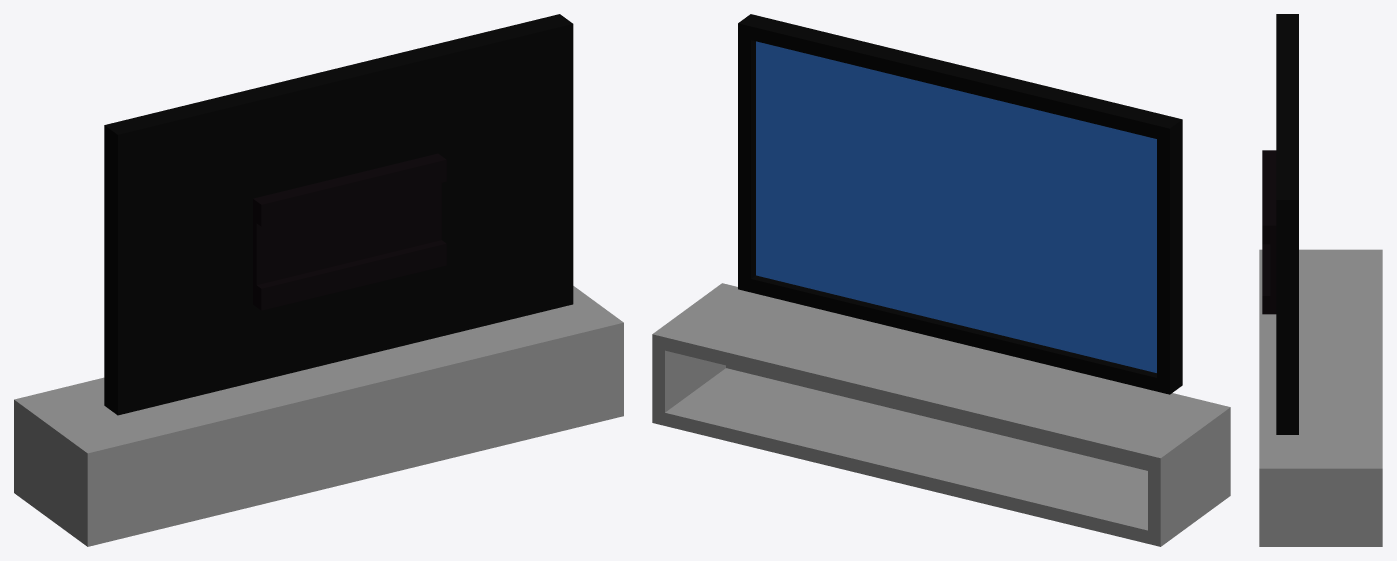
3 views of the same model, side by side, from view 1: azimuth 30°, elevation 25°; view 2: azimuth 150°, elevation 25°; view 3: azimuth 270°, elevation 25° (orthographic). The views are drawn at different scales.
Parts seen in each view (by area): view 1: 51, 54, 52; view 2: 53, 54, 51; view 3: 54, 51, 52.
Part boxes in pixels (left/top/right/bottom): 51: left=104, top=14, right=573, bottom=415; 54: left=14, top=286, right=623, bottom=546; 52: left=253, top=153, right=446, bottom=310; 53: left=756, top=41, right=1156, bottom=372; 54: left=652, top=283, right=1230, bottom=546; 51: left=738, top=14, right=1182, bottom=394; 54: left=1259, top=249, right=1382, bottom=546; 51: left=1276, top=14, right=1298, bottom=434; 52: left=1262, top=150, right=1276, bottom=314.
Size of the model in its own units: 6.78 by 4.77 by 1.61.
